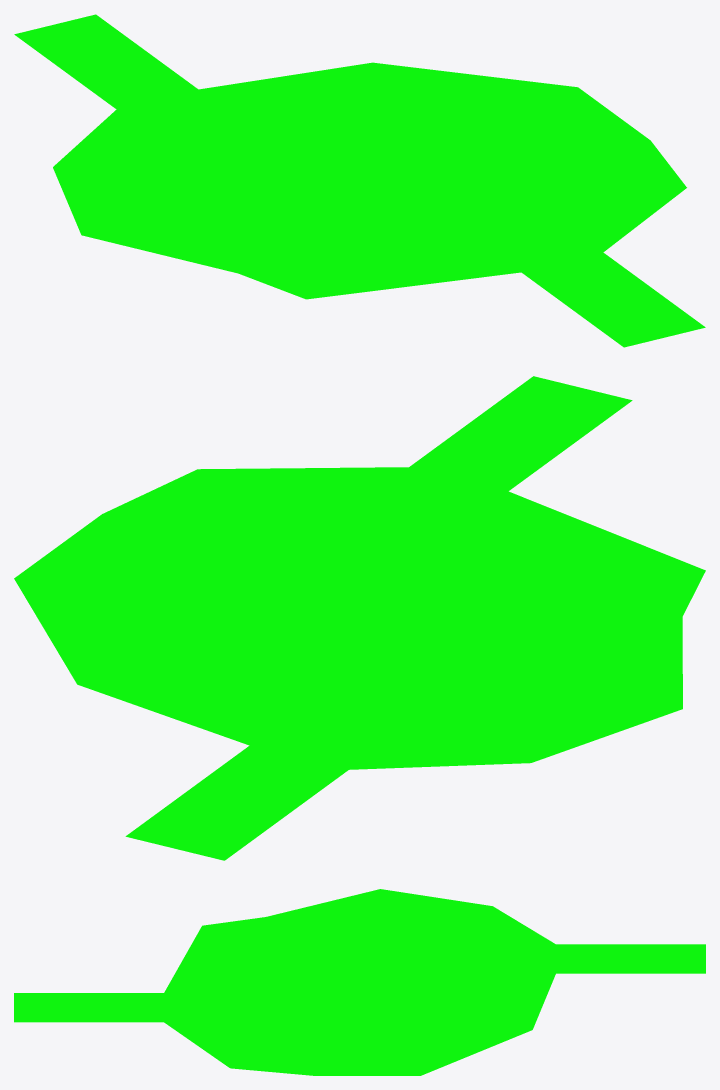
The model's file is s01b_sa1-floor.glb.
3 renders of one model, top to bottom at view 1: azimuth 30°, elevation 25°; view 2: azimuth 150°, elevation 25°; view 3: azimuth 270°, elevation 25°, orthographic. The views are drawn at different scales.
Visible parts, largest first — view 1: collision_floor-colonly; view 2: collision_floor-colonly; view 3: collision_floor-colonly.
Boxes of the visible parts, <box> form: collision_floor-colonly: <box>14,14,705,347</box>; collision_floor-colonly: <box>14,376,705,860</box>; collision_floor-colonly: <box>14,889,705,1075</box>.
Bounding box in the file's own units: 38.36 × 0 × 60.
